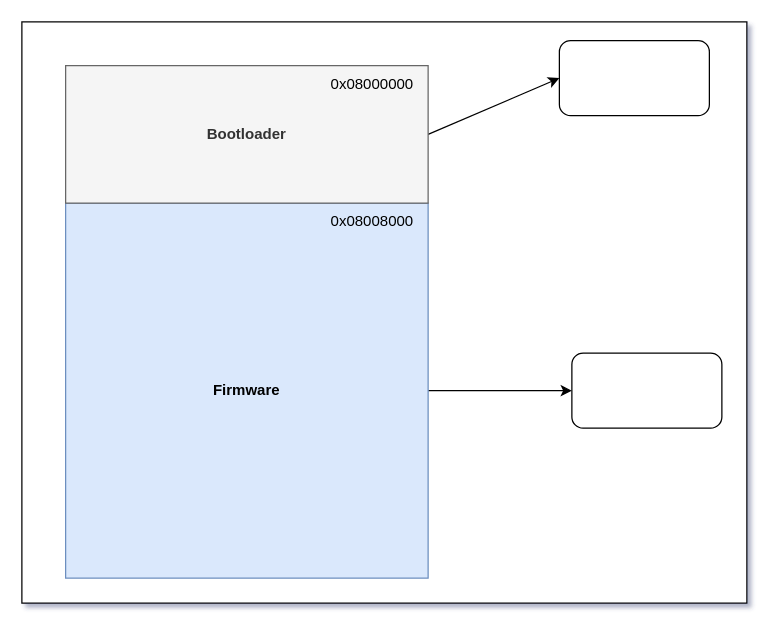
The diagram is 776 pixels wide and 633 high, and some of its shapes have lost their labels. Each missing label, with the centre of its shape:
"partition size of 32 KiB" goes at (x=633, y=77).
"partition size of 480 KiB" goes at (x=646, y=390).
